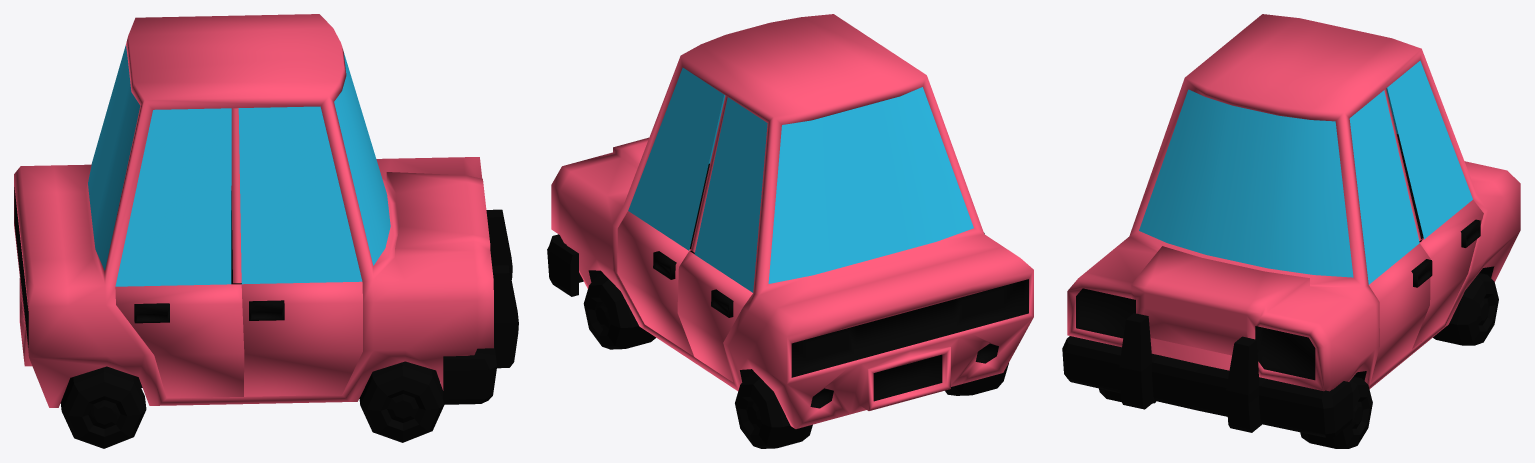
The model's file is ToyObject_124.fbx.
3 views of the same model, side by side, from view 1: azimuth 30°, elevation 25°; view 2: azimuth 150°, elevation 25°; view 3: azimuth 270°, elevation 25° (orthographic). The views are drawn at different scales.
Visible parts, largest first — view 1: object-1.050; view 2: object-1.050; view 3: object-1.050.
Part boxes in pixels (left/top/right/bottom): object-1.050: left=14, top=14, right=518, bottom=448; object-1.050: left=547, top=14, right=1033, bottom=448; object-1.050: left=1062, top=14, right=1520, bottom=448.
Size of the model in its own units: 0.1646 by 0.1069 by 0.1461.
